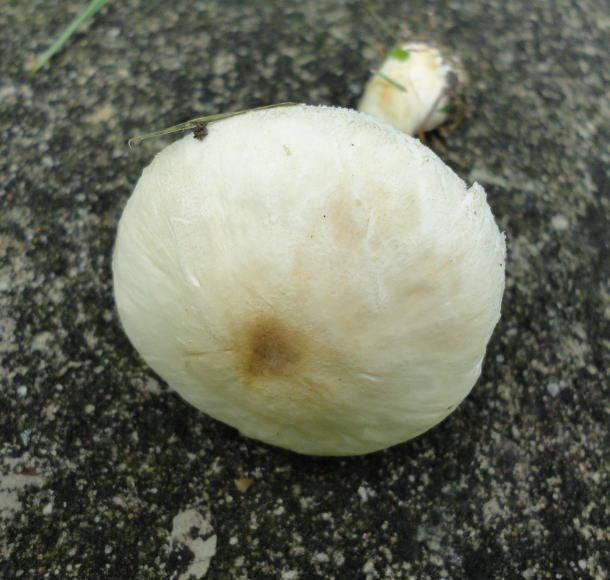poisonous_mushroom: (109, 100, 508, 458)
